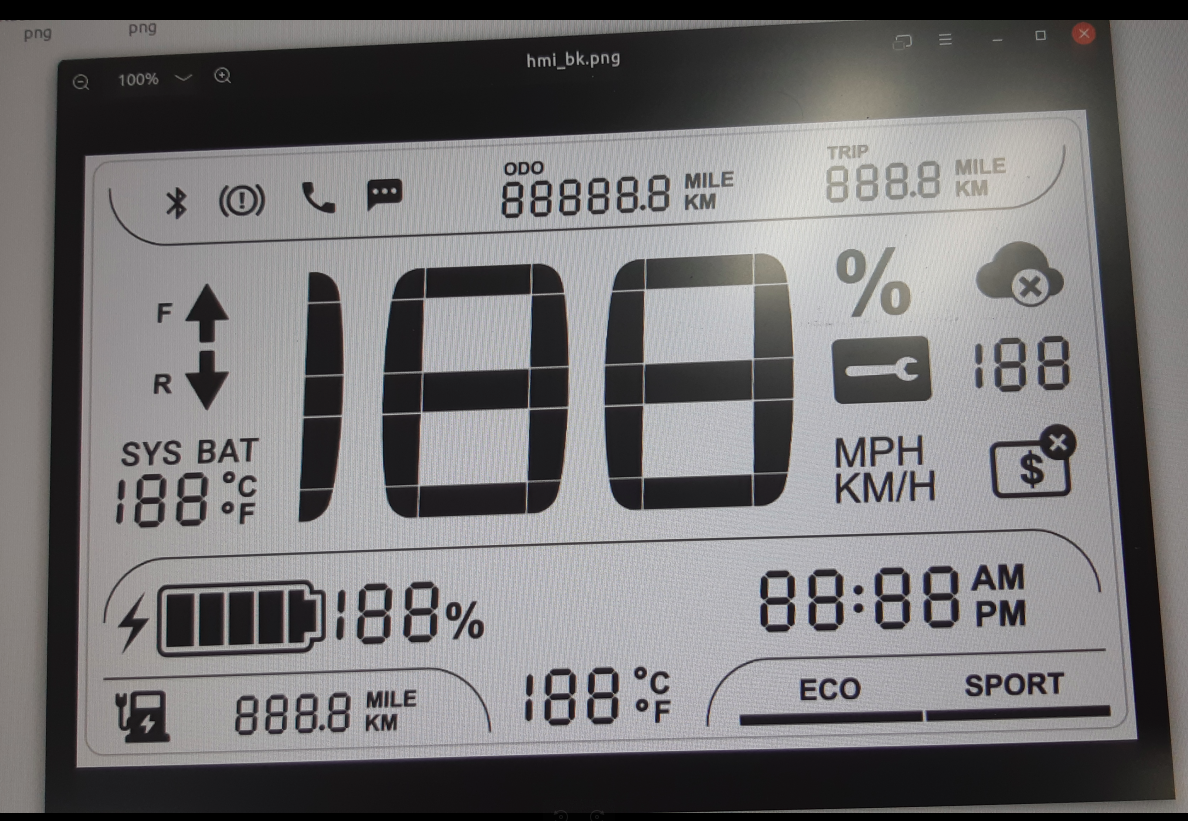bluetooth_on: (160, 184, 194, 222)
braking_on: (215, 181, 269, 219)
calling_on: (297, 178, 340, 216)
connection_lost: (972, 239, 1068, 310)
error_code: (828, 332, 938, 408)
low_battery: (112, 686, 177, 747)
sms_on: (362, 175, 406, 215)
vin_id: (986, 422, 1079, 500)
